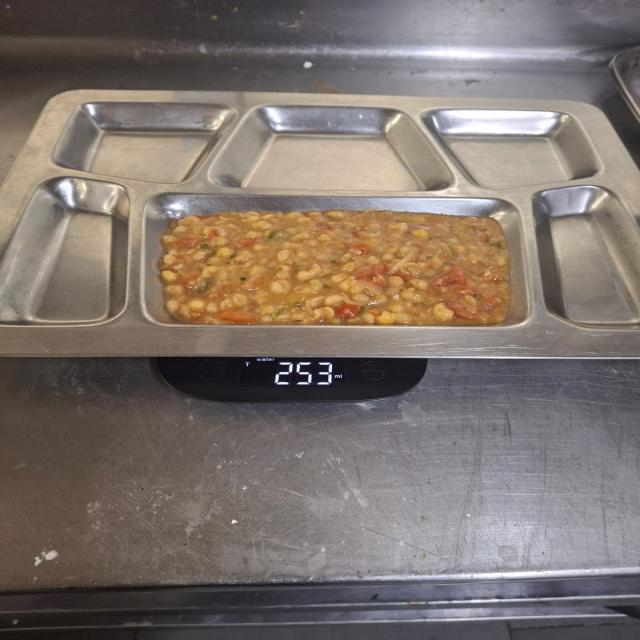Dal: (172, 218, 505, 324)
